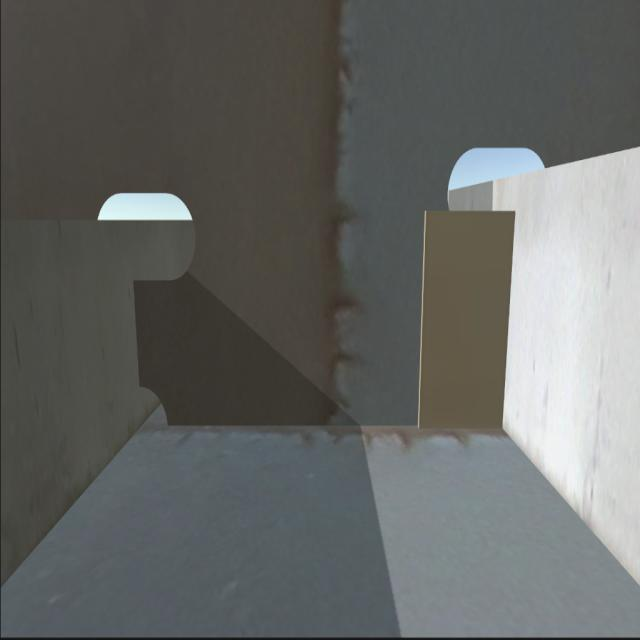fillet_hole: (135, 386, 169, 430)
fillet_yong_jeop_jang: (164, 416, 504, 434)
longi_yong_jeop_jang: (494, 213, 518, 444), (134, 283, 150, 386)
plate_CP01: (423, 214, 508, 434)
